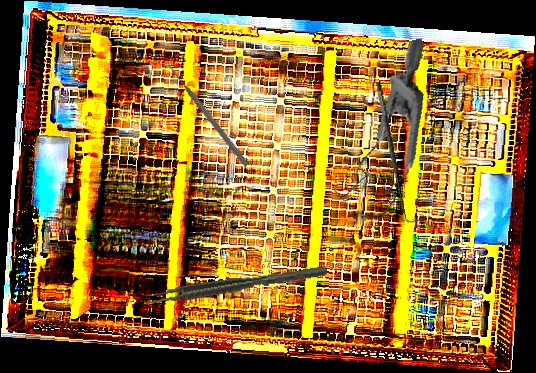Hook Surgical: (373, 79, 420, 225)
Pusher: (165, 62, 251, 168)
Speculum: (305, 38, 460, 230)
Tissue Forceps: (143, 265, 329, 307)
